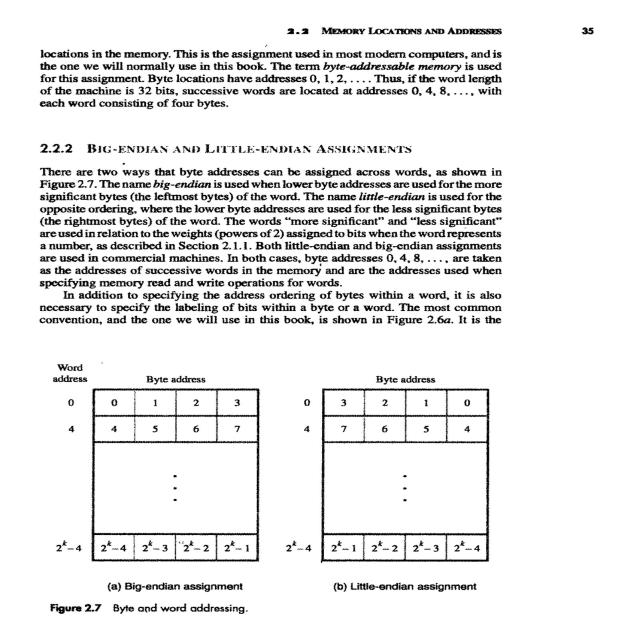diagram: (30, 354, 525, 640)
